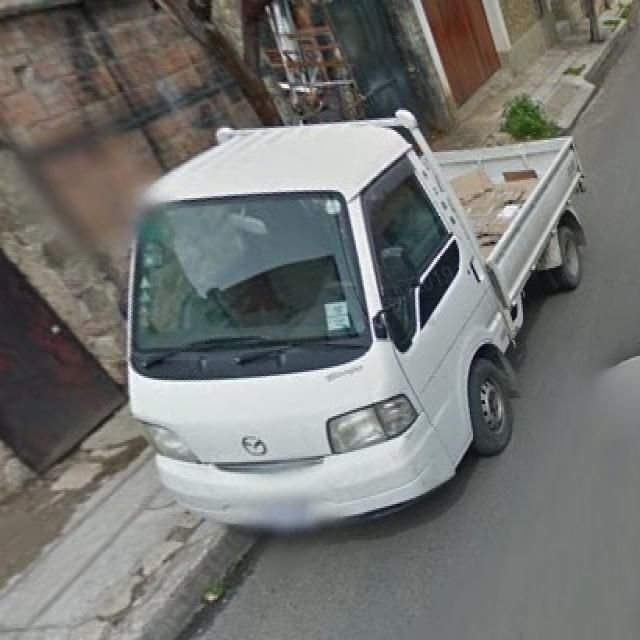cars: (114, 118, 588, 550)
